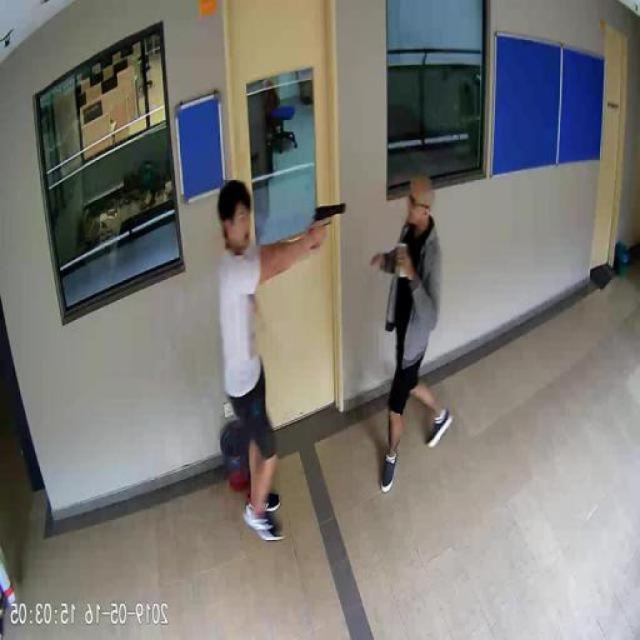pistol: (305, 196, 350, 252)
